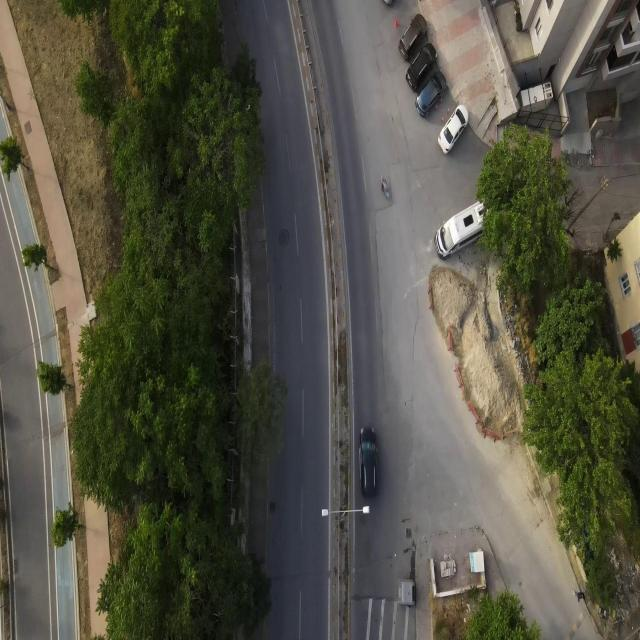p3rson: (574, 588, 584, 605)
